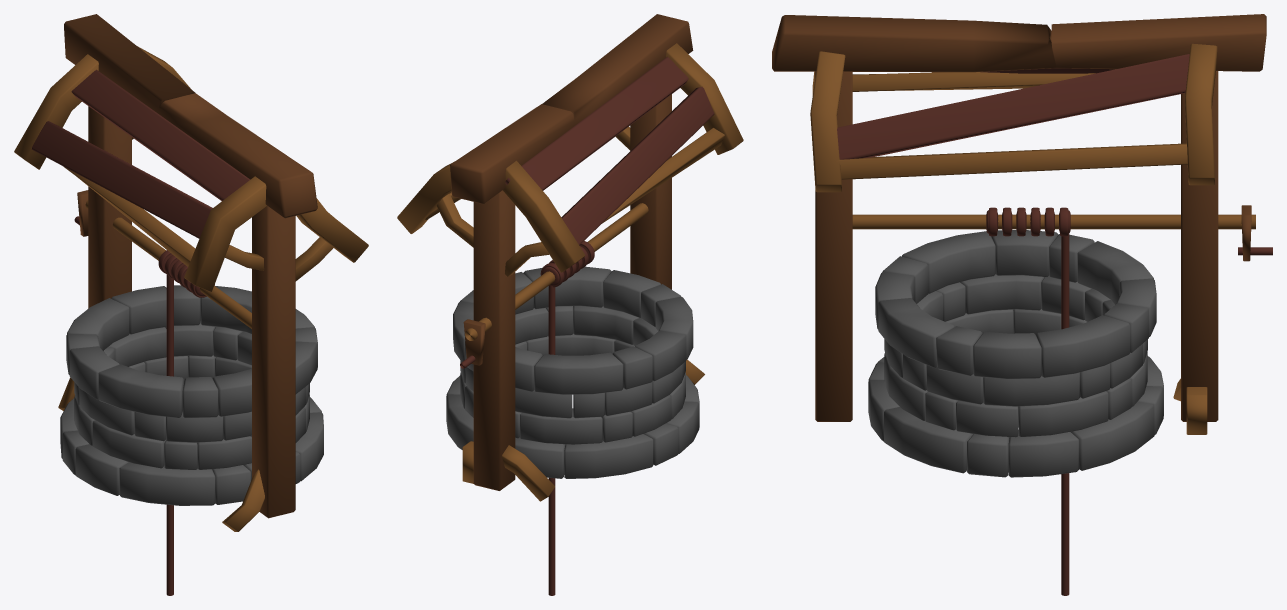
Rendered from Damaged_Well.fbx.
3 renders of one model, left to right at view 1: azimuth 30°, elevation 25°; view 2: azimuth 150°, elevation 25°; view 3: azimuth 270°, elevation 25°, orthographic. The views are drawn at different scales.
Parts seen in each view (by area): view 1: last stage, Cube.001, Cube.002, first stage, stage 3, stage 2, Cube.017, Cube.018, Cube, Cube.006, Cube.004, Cube.016 (+7 smaller); view 2: last stage, Cube, Cube.002, stage 3, first stage, stage 2, Cube.018, Cube.017, Cube.001, Cube.004, Cube.006, Cube.016 (+9 smaller); view 3: last stage, Cube.002, first stage, Cube.019, stage 3, stage 2, Cube.001, Cube, Cube.015, Cylinder, Cube.003, Cube.005 (+4 smaller).
Part boxes in pixels (left/top/right/bottom): last stage: left=66, top=285, right=317, bottom=418; Cube.001: left=252, top=206, right=295, bottom=518; Cube.002: left=64, top=14, right=317, bottom=218; first stage: left=60, top=397, right=323, bottom=505; stage 3: left=74, top=321, right=309, bottom=442; stage 2: left=74, top=355, right=309, bottom=469; Cube.017: left=71, top=69, right=250, bottom=200; Cube.018: left=31, top=121, right=212, bottom=238; Cube: left=88, top=106, right=131, bottom=308; Cube.006: left=184, top=176, right=267, bottom=291; Cube.004: left=14, top=54, right=98, bottom=169; Cube.016: left=63, top=166, right=195, bottom=266; last stage: left=453, top=266, right=693, bottom=394; Cube: left=473, top=190, right=515, bottom=490; Cube.002: left=450, top=14, right=693, bottom=203; stage 3: left=460, top=306, right=685, bottom=418; first stage: left=446, top=375, right=699, bottom=478; stage 2: left=460, top=333, right=685, bottom=444; Cube.018: left=561, top=86, right=714, bottom=245; Cube.017: left=505, top=56, right=688, bottom=190; Cube.001: left=630, top=94, right=671, bottom=289; Cube.004: left=503, top=160, right=585, bottom=272; Cube.006: left=666, top=43, right=743, bottom=154; Cube.016: left=602, top=128, right=724, bottom=223; last stage: left=875, top=230, right=1156, bottom=378; Cube.002: left=772, top=14, right=1266, bottom=72; first stage: left=868, top=356, right=1163, bottom=477; Cube.019: left=837, top=54, right=1189, bottom=159; stage 3: left=884, top=274, right=1147, bottom=406; stage 2: left=884, top=309, right=1147, bottom=437; Cube.001: left=815, top=71, right=852, bottom=421; Cube: left=1181, top=71, right=1218, bottom=421; Cube.015: left=836, top=143, right=1187, bottom=179; Cylinder: left=852, top=214, right=1255, bottom=229; Cube.003: left=1185, top=43, right=1217, bottom=185; Cube.005: left=810, top=51, right=845, bottom=192.
Size of the model in its own units: 1582 by 3373 by 2677.
